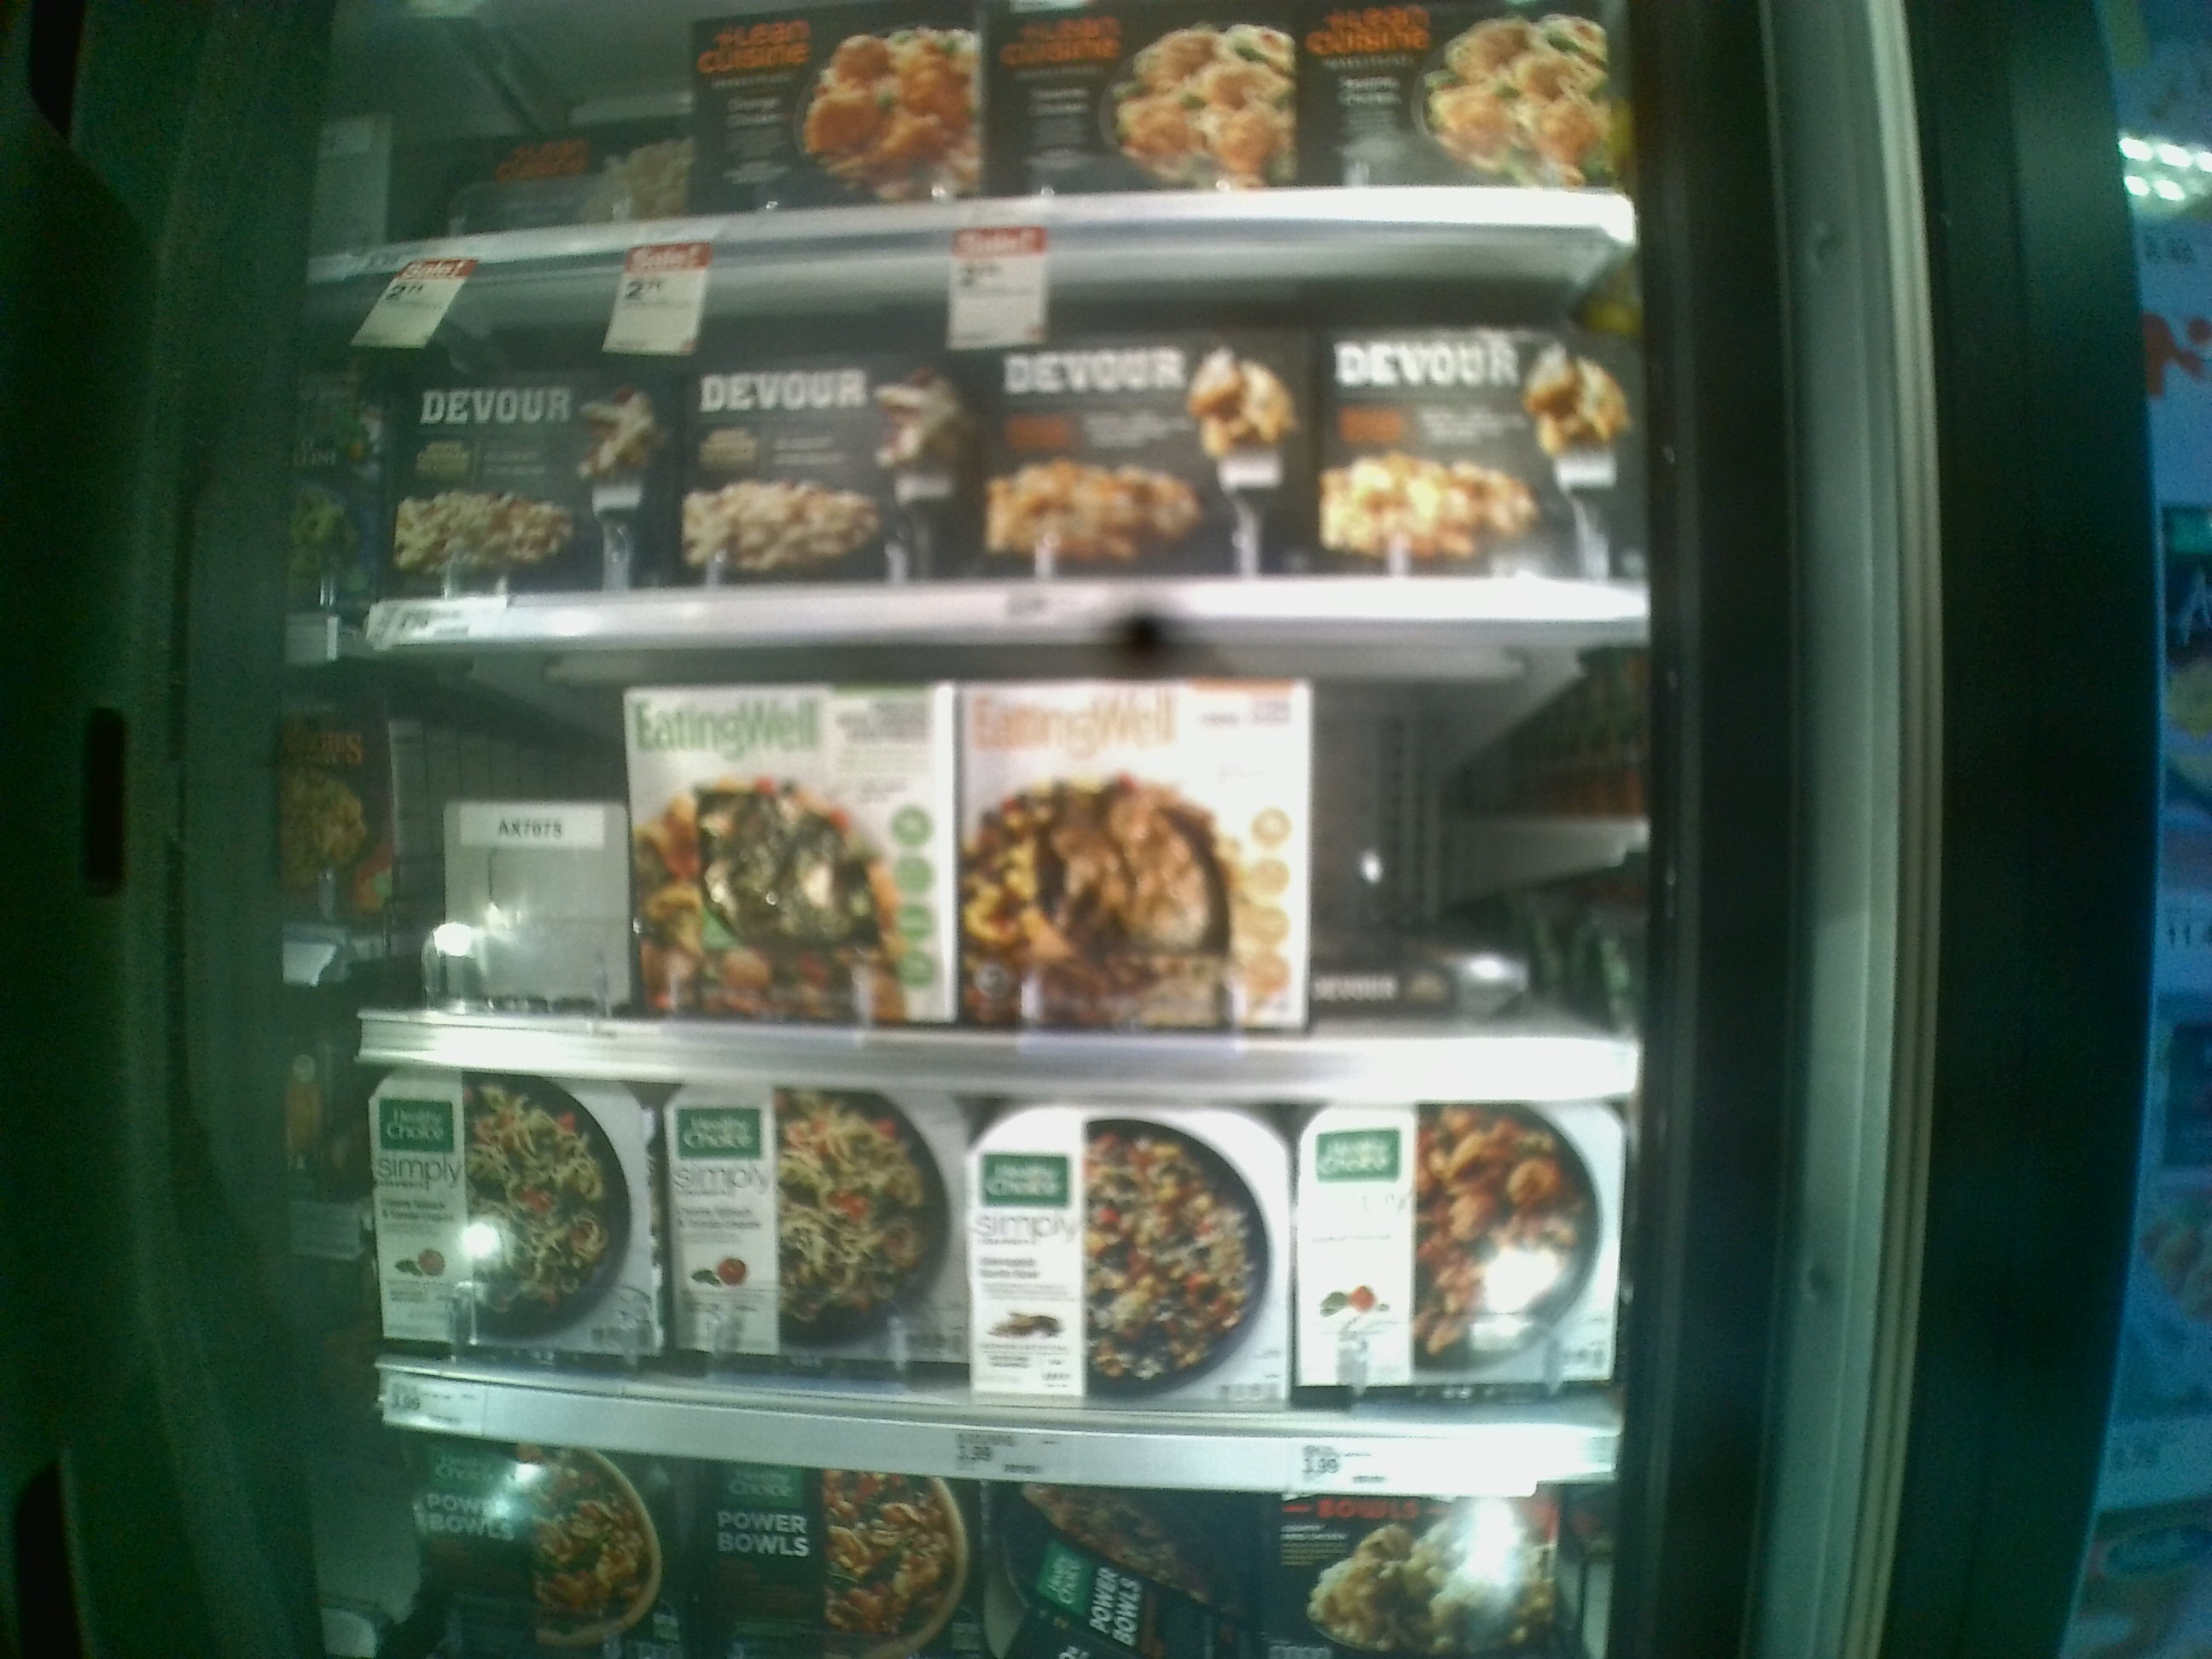shelf: (354, 652, 1639, 1108), (359, 1058, 1634, 1492), (320, 220, 1644, 633)
